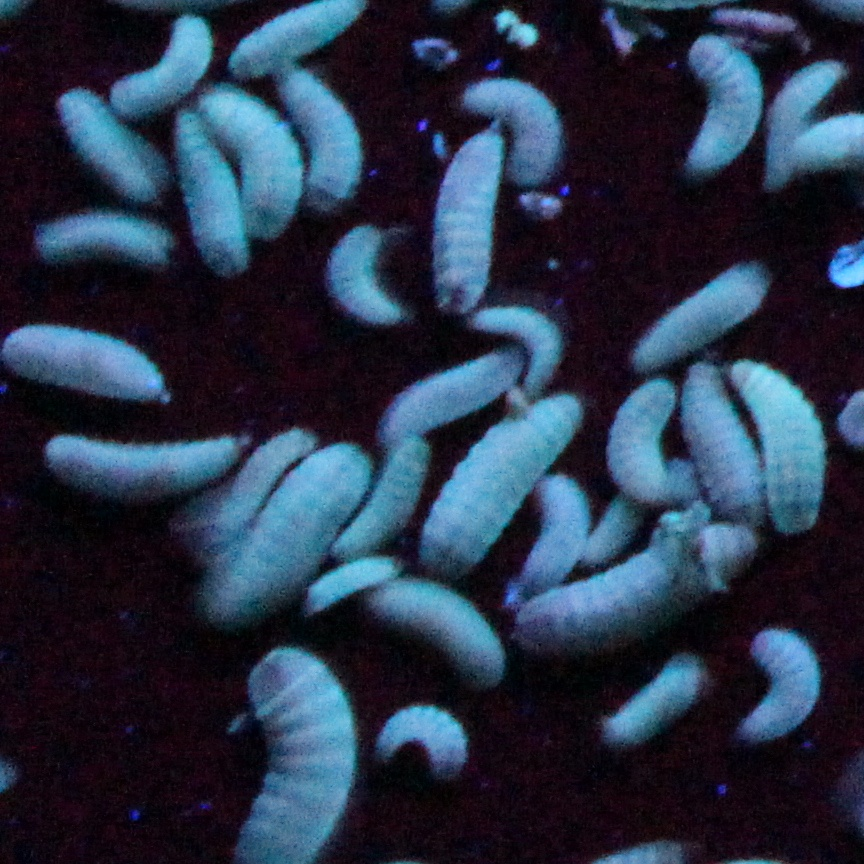larve: (525, 536, 732, 669), (432, 401, 583, 569), (222, 456, 367, 610), (732, 349, 819, 533), (674, 362, 767, 530), (50, 80, 164, 206), (367, 585, 506, 685), (210, 84, 299, 240), (633, 266, 766, 368), (196, 436, 312, 552), (46, 428, 242, 495), (390, 349, 525, 446), (4, 324, 170, 402), (99, 11, 213, 117), (273, 75, 364, 204), (459, 75, 564, 184), (438, 130, 500, 310), (686, 31, 764, 173), (177, 111, 244, 273), (332, 440, 419, 559), (742, 628, 822, 748), (600, 381, 674, 507), (319, 228, 408, 328), (230, 8, 368, 71), (606, 653, 695, 746), (467, 304, 561, 388), (377, 704, 470, 780), (35, 215, 177, 264), (773, 66, 837, 131)
